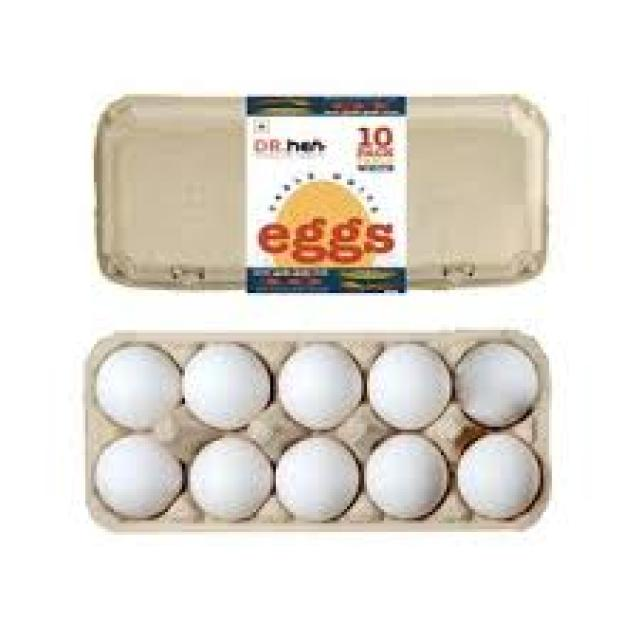White Egg: (269, 430, 366, 528), (87, 429, 186, 521), (364, 428, 454, 528), (453, 438, 549, 530), (180, 342, 275, 433), (90, 343, 185, 430), (276, 343, 366, 433), (368, 340, 455, 432), (188, 432, 275, 524), (456, 343, 542, 426)
